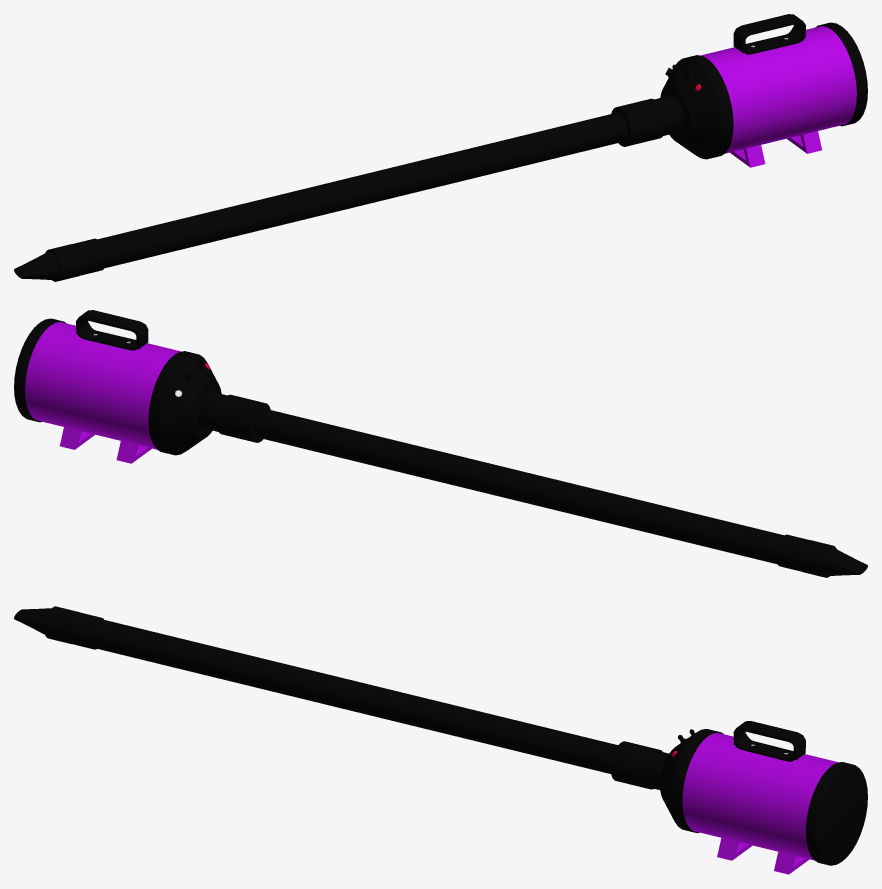
File: DryerV7.fbx
The picture shows the model from 3 angles, top to bottom: view 1: azimuth 30°, elevation 25°; view 2: azimuth 150°, elevation 25°; view 3: azimuth 330°, elevation 25°; orthographic projection.
Visible parts, largest first — view 1: Cylinder, Cylinder.001, Cylinder.002; view 2: Cylinder, Cylinder.001, Cylinder.002; view 3: Cylinder, Cylinder.001, Cylinder.002.
Part boxes in pixels (bbox=[...]): Cylinder: bbox=[611, 14, 867, 167]; Cylinder.001: bbox=[97, 112, 628, 267]; Cylinder.002: bbox=[14, 238, 105, 281]; Cylinder: bbox=[14, 310, 270, 463]; Cylinder.001: bbox=[253, 408, 784, 563]; Cylinder.002: bbox=[776, 534, 867, 577]; Cylinder: bbox=[610, 721, 867, 874]; Cylinder.001: bbox=[90, 619, 617, 773]; Cylinder.002: bbox=[14, 606, 103, 649].
Size of the model in its own units: 1871 by 268 by 205.
2 materials, 1 textured.
